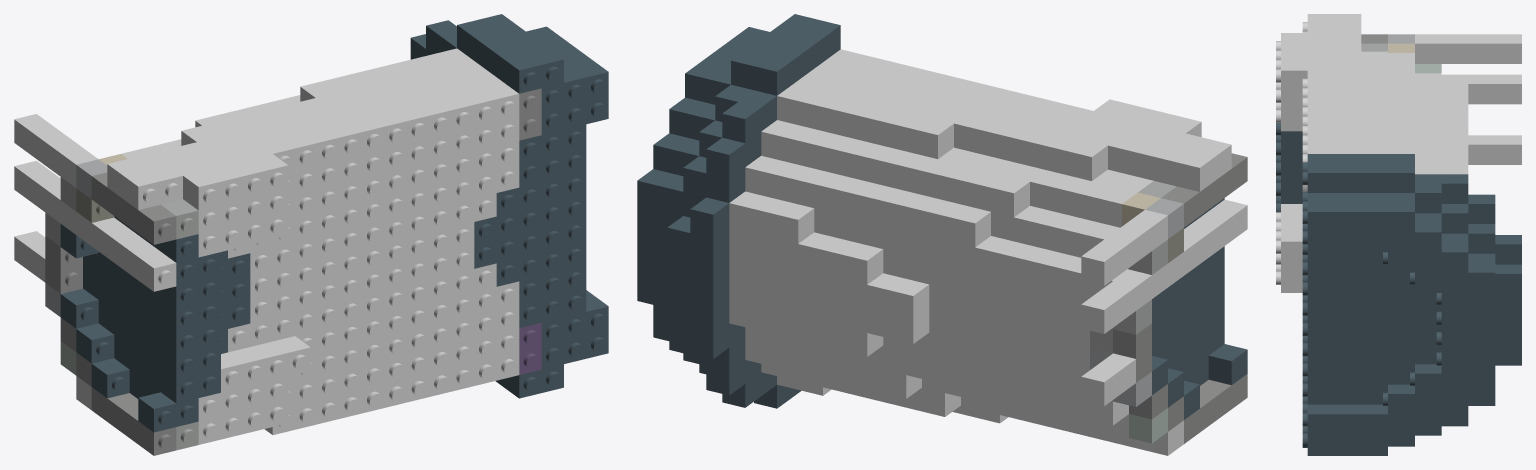
File: full.glb
3 views of the same model, side by side, from view 1: azimuth 30°, elevation 25°; view 2: azimuth 150°, elevation 25°; view 3: azimuth 270°, elevation 25° (orthographic). The views are drawn at different scales.
Visible parts, largest first — view 1: world; view 2: world; view 3: world.
Part boxes in pixels (left/top/right/bottom): world: left=14, top=14, right=608, bottom=455; world: left=637, top=14, right=1247, bottom=455; world: left=1276, top=14, right=1521, bottom=455.
Bounding box in the file's own units: 168 × 112 × 88.2.
